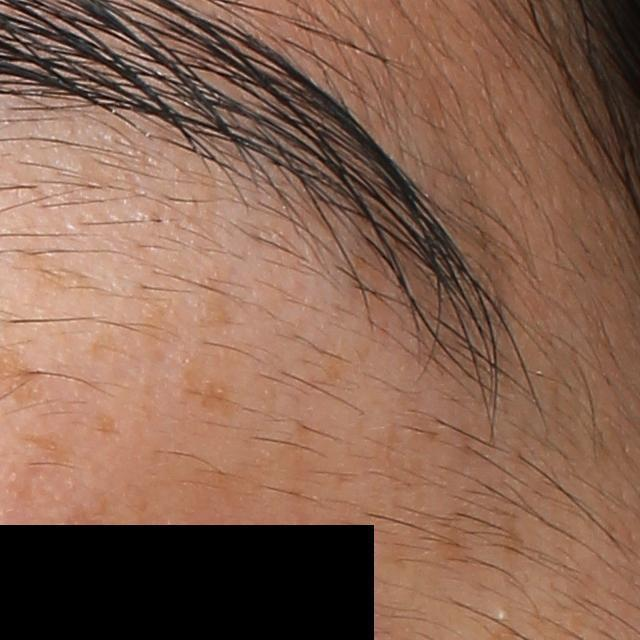comedo: (493, 607, 512, 626)
melasma: (88, 302, 191, 365), (401, 505, 480, 570), (177, 367, 239, 416), (64, 495, 114, 541), (22, 429, 82, 466), (94, 407, 127, 439)
